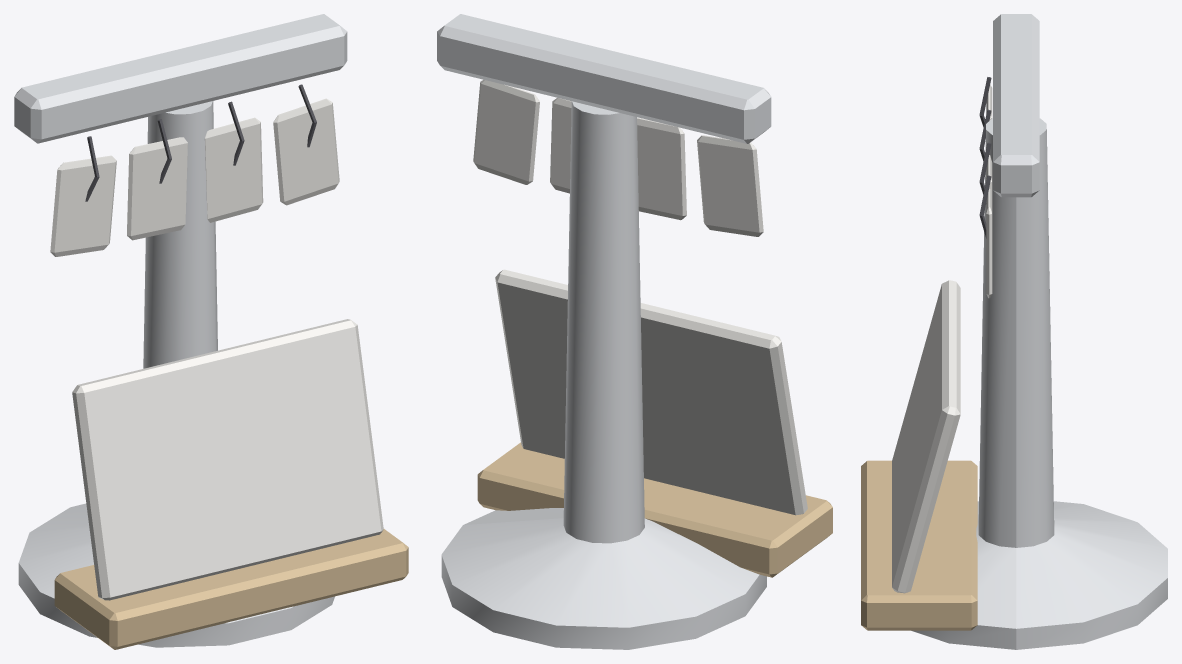
File: clothing-rail-and-wardrobe-price-tag-set-a62e3b54__35477.glb
3 views of the same model, side by side, from view 1: azimuth 30°, elevation 25°; view 2: azimuth 150°, elevation 25°; view 3: azimuth 270°, elevation 25° (orthographic). The views are drawn at different scales.
Visible parts, largest first — view 1: price-tag-set; view 2: price-tag-set; view 3: price-tag-set.
Boxes of the visible parts, left/top/right/bottom form: price-tag-set: left=14, top=14, right=408, bottom=649; price-tag-set: left=437, top=14, right=832, bottom=649; price-tag-set: left=861, top=14, right=1167, bottom=649.
Bounding box in the file's own units: 0.18 × 0.284 × 0.158.
